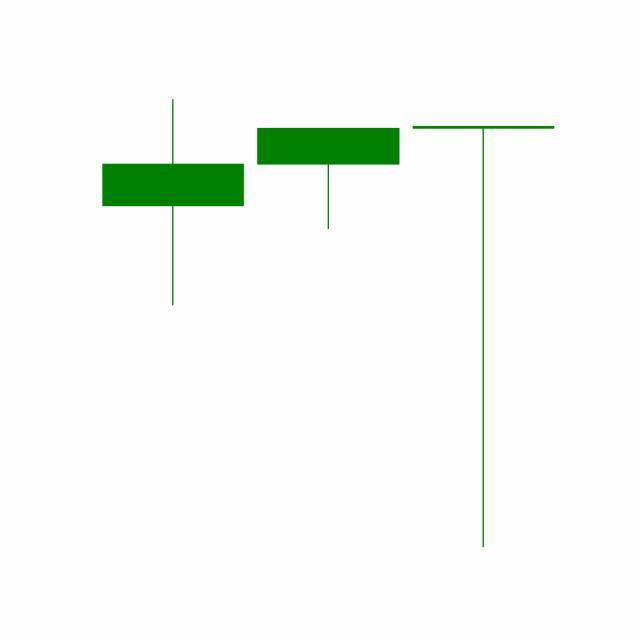Dragonfly Doji: (406, 122, 562, 553)
